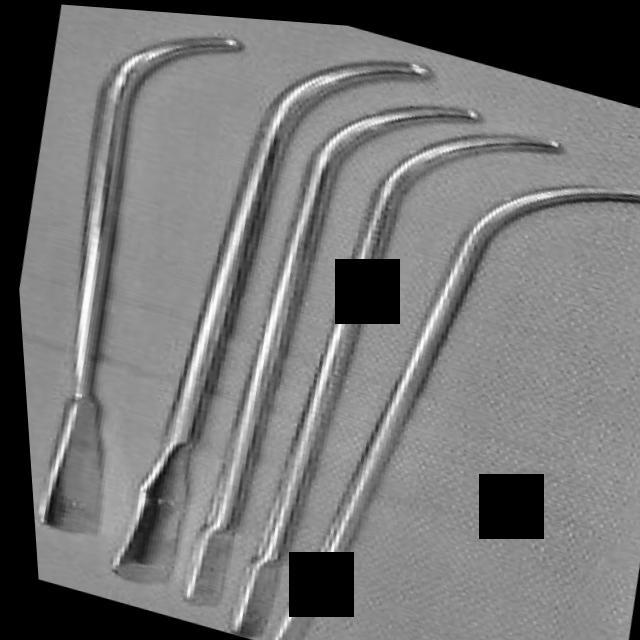Urethral Dilators: (158, 44, 598, 640), (58, 3, 459, 640), (191, 72, 640, 640), (121, 26, 510, 640), (0, 0, 273, 578)
